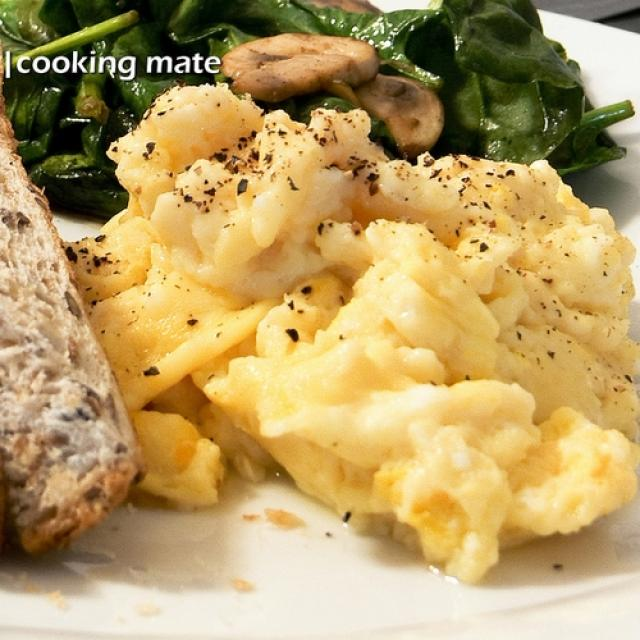鸡蛋料理: (40, 34, 630, 594)
